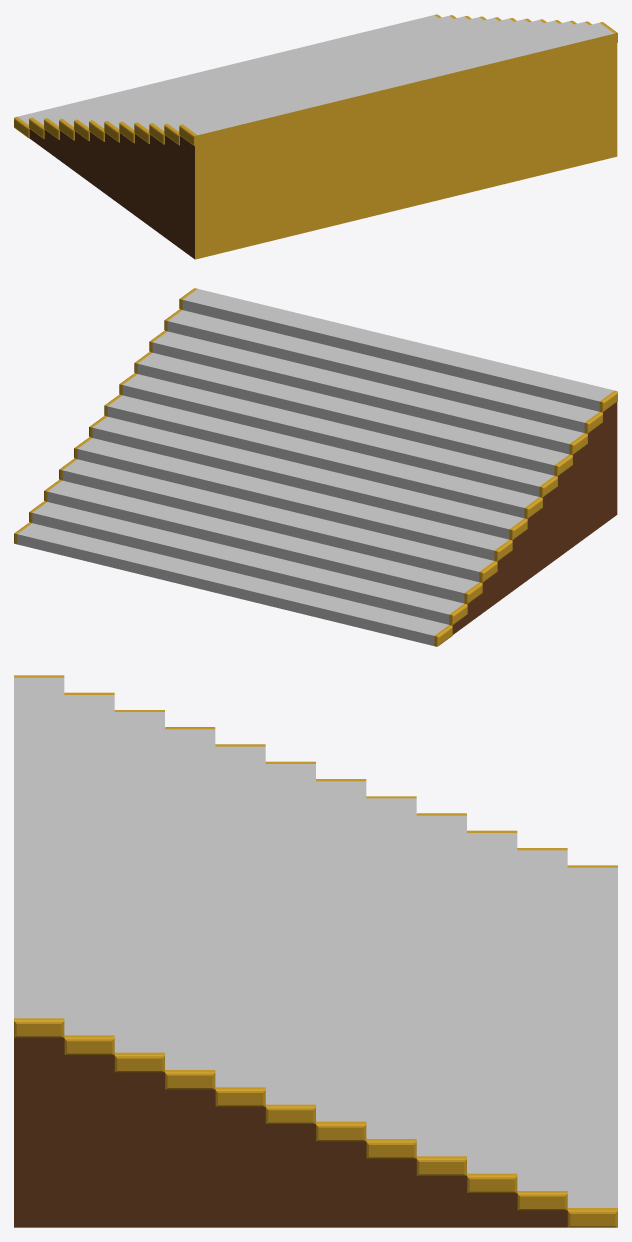
File: Treppev1.fbx
The picture shows the model from 3 angles, top to bottom: view 1: azimuth 30°, elevation 25°; view 2: azimuth 150°, elevation 25°; view 3: azimuth 270°, elevation 25°; orthographic projection. The views are drawn at different scales.
Parts seen in each view (by area): view 1: Cube_1; view 2: Cube_1; view 3: Cube_1.
Part boxes in pixels (x1,y1,x2,y2): Cube_1: (14, 14, 617, 259); Cube_1: (14, 288, 617, 646); Cube_1: (14, 675, 617, 1227).
Size of the model in its own units: 604 by 168 by 444.
